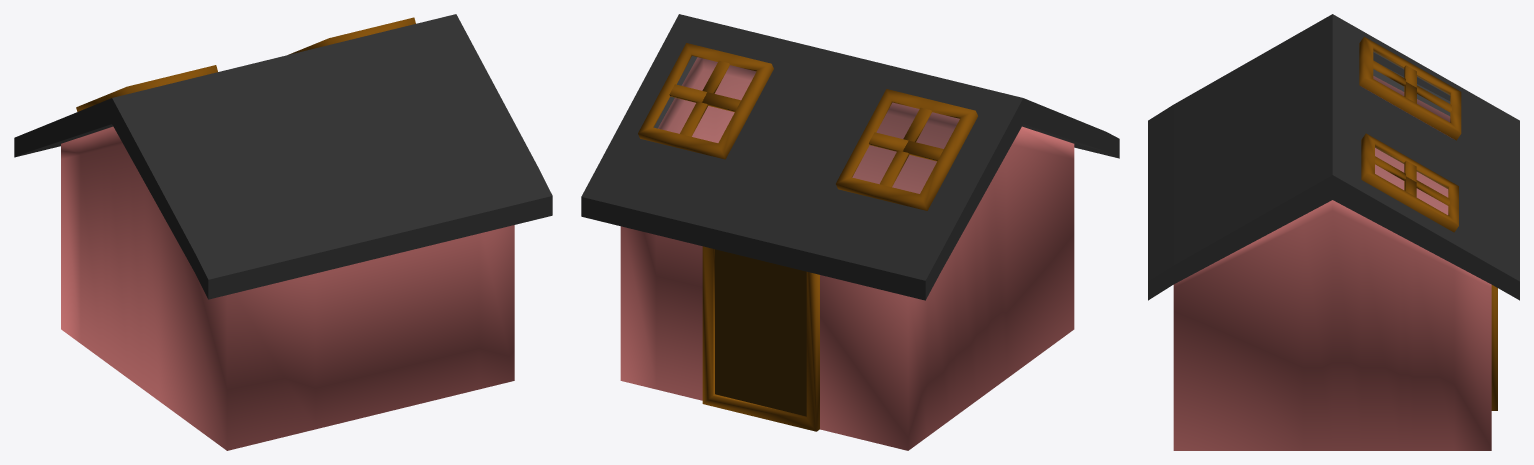
File: House1Smooth.fbx
3 views of the same model, side by side, from view 1: azimuth 30°, elevation 25°; view 2: azimuth 150°, elevation 25°; view 3: azimuth 270°, elevation 25° (orthographic). The views are drawn at different scales.
Visible parts, largest first — view 1: RoofFrame, HouseFrame, WindowFrame.001, WindowFrame.000; view 2: HouseFrame, RoofFrame, Door, WindowFrame.001, WindowFrame.000, DoorFrame; view 3: HouseFrame, RoofFrame, WindowFrame.001, WindowFrame.000, DoorFrame.
Boxes of the visible parts, x1,y1,x2,y2 form: RoofFrame: [14, 14, 552, 299]; HouseFrame: [61, 126, 514, 450]; WindowFrame.001: [76, 65, 217, 111]; WindowFrame.000: [288, 17, 415, 54]; HouseFrame: [620, 57, 1074, 450]; RoofFrame: [581, 14, 1119, 300]; Door: [715, 249, 806, 416]; WindowFrame.001: [836, 89, 977, 210]; WindowFrame.000: [638, 43, 773, 159]; DoorFrame: [702, 246, 819, 431]; HouseFrame: [1173, 76, 1491, 450]; RoofFrame: [1148, 14, 1519, 300]; WindowFrame.001: [1359, 36, 1461, 140]; WindowFrame.000: [1361, 133, 1458, 232]; DoorFrame: [1491, 285, 1497, 410].
Bounding box in the file's own units: 239 × 199 × 234.
